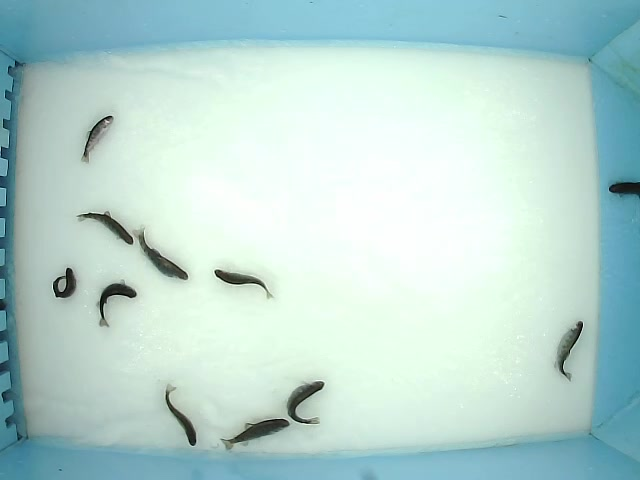fish: (131, 223, 189, 282), (218, 417, 291, 451), (75, 209, 134, 246), (94, 279, 137, 329), (164, 383, 197, 447), (213, 268, 275, 300), (553, 320, 585, 382), (286, 380, 325, 425), (79, 114, 114, 164), (52, 267, 77, 300)
